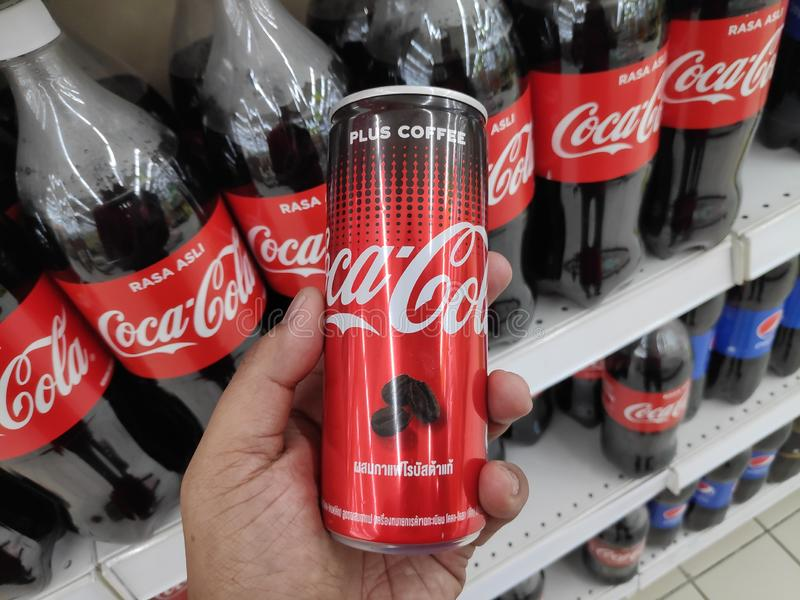coke: (322, 85, 489, 550)
